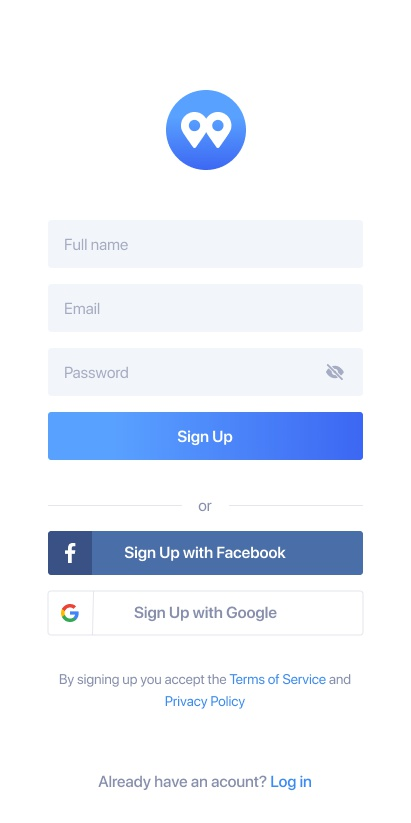EditText: (49, 221, 364, 269), (48, 285, 363, 333), (48, 349, 363, 397)
Icon: (326, 365, 344, 381)
Image: (166, 90, 247, 171)
Text: (60, 674, 351, 709), (99, 775, 268, 790), (66, 367, 129, 379), (66, 239, 129, 251), (271, 775, 312, 791), (66, 303, 101, 315), (199, 502, 213, 512)
TextButton: (49, 413, 364, 461), (47, 590, 364, 636), (48, 531, 363, 575)
